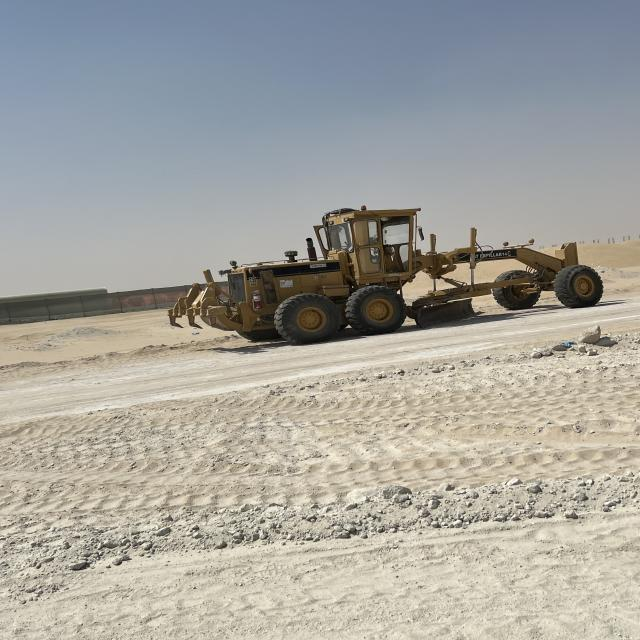Grader: (166, 194, 605, 348)
